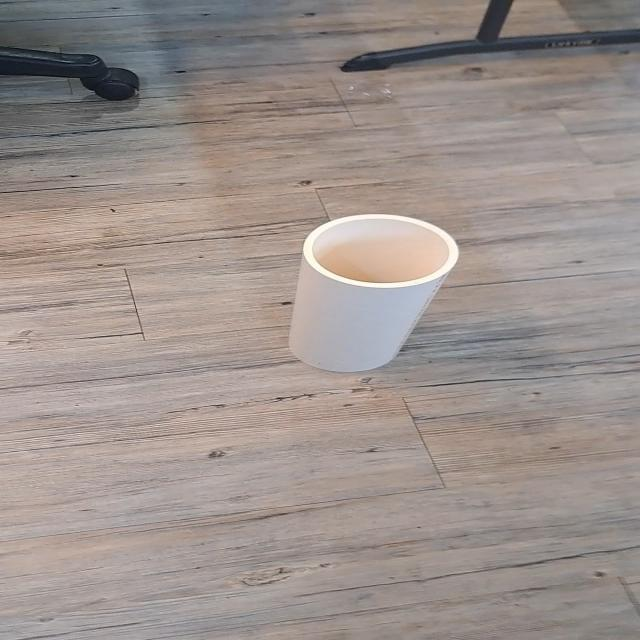CORAL: (264, 198, 485, 392)
